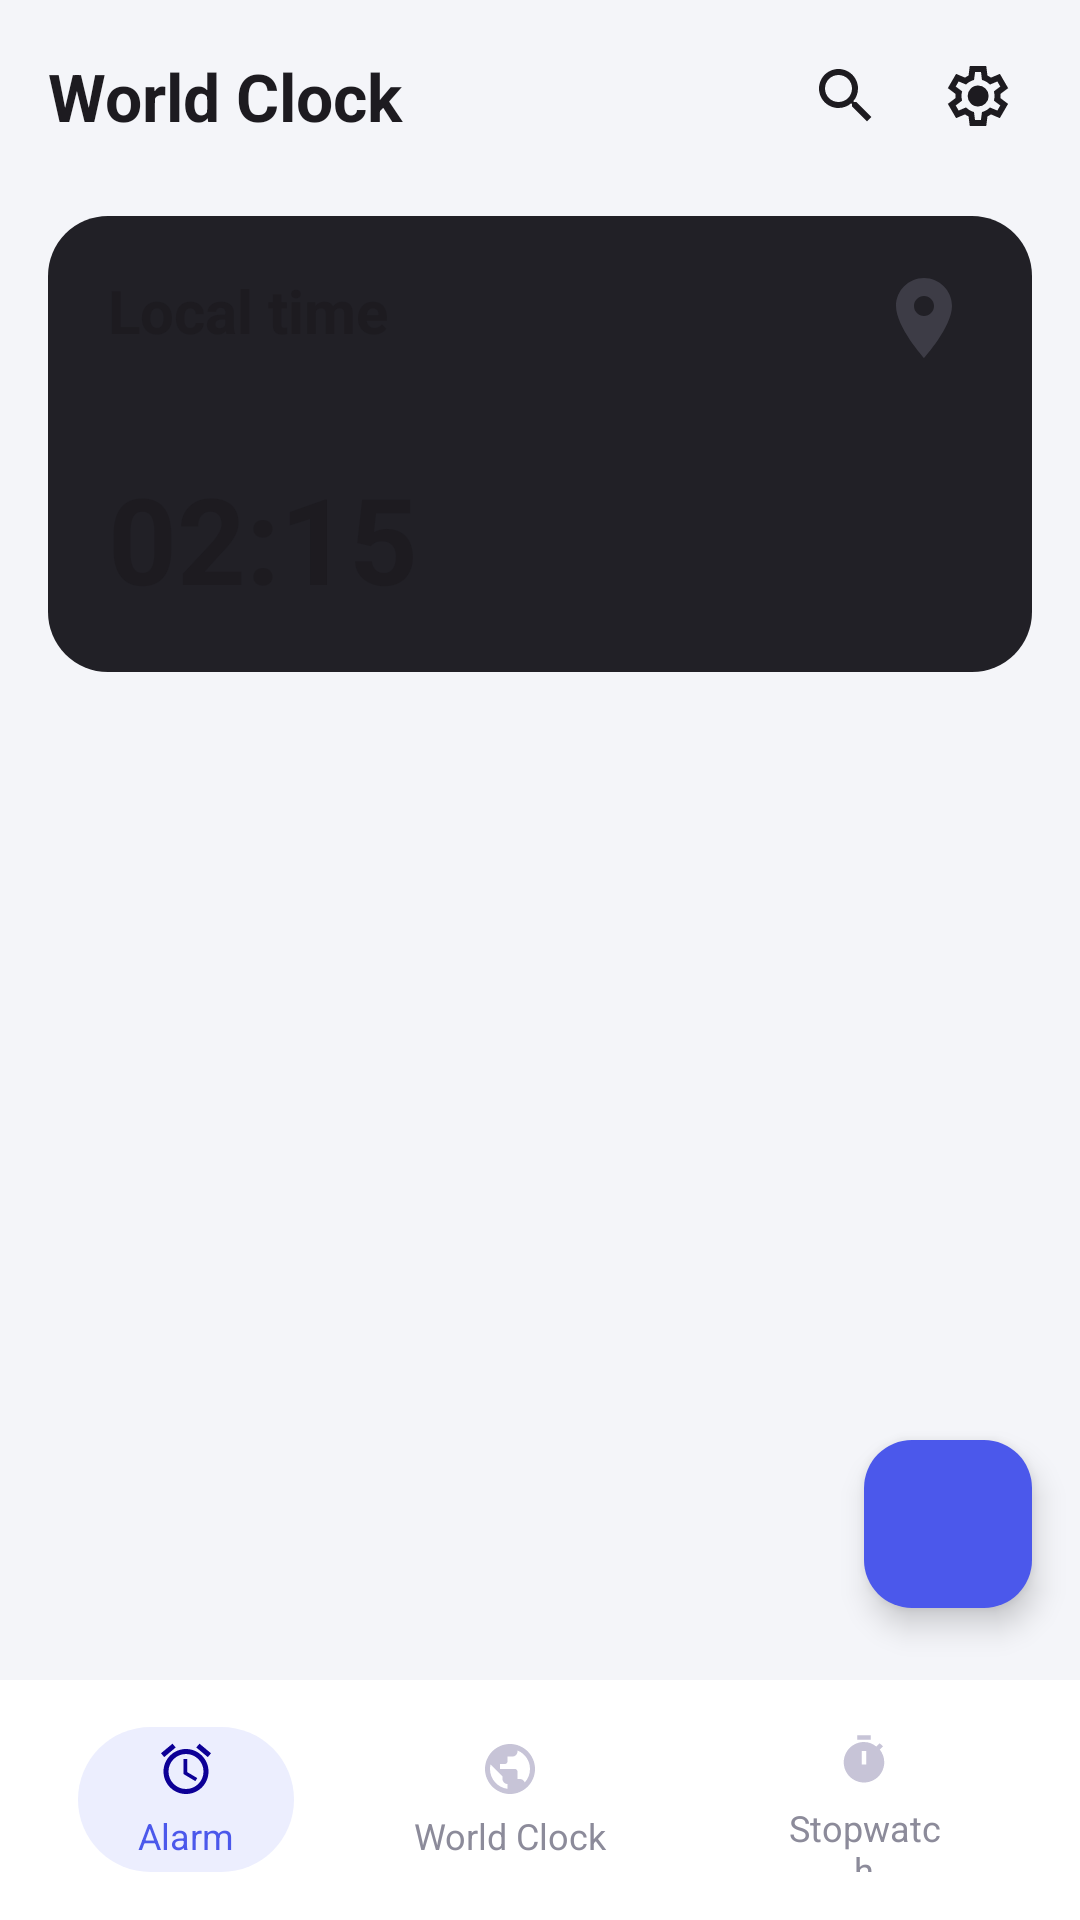

Icons on this 1080 x 1920 Android screen, each with the point to tap as (x=x, y=y):
Location: (x=924, y=317)
Search: (x=845, y=95)
